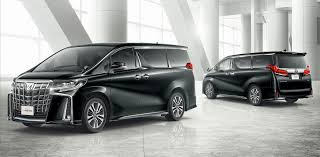car: (2, 36, 199, 138), (200, 46, 319, 116)
